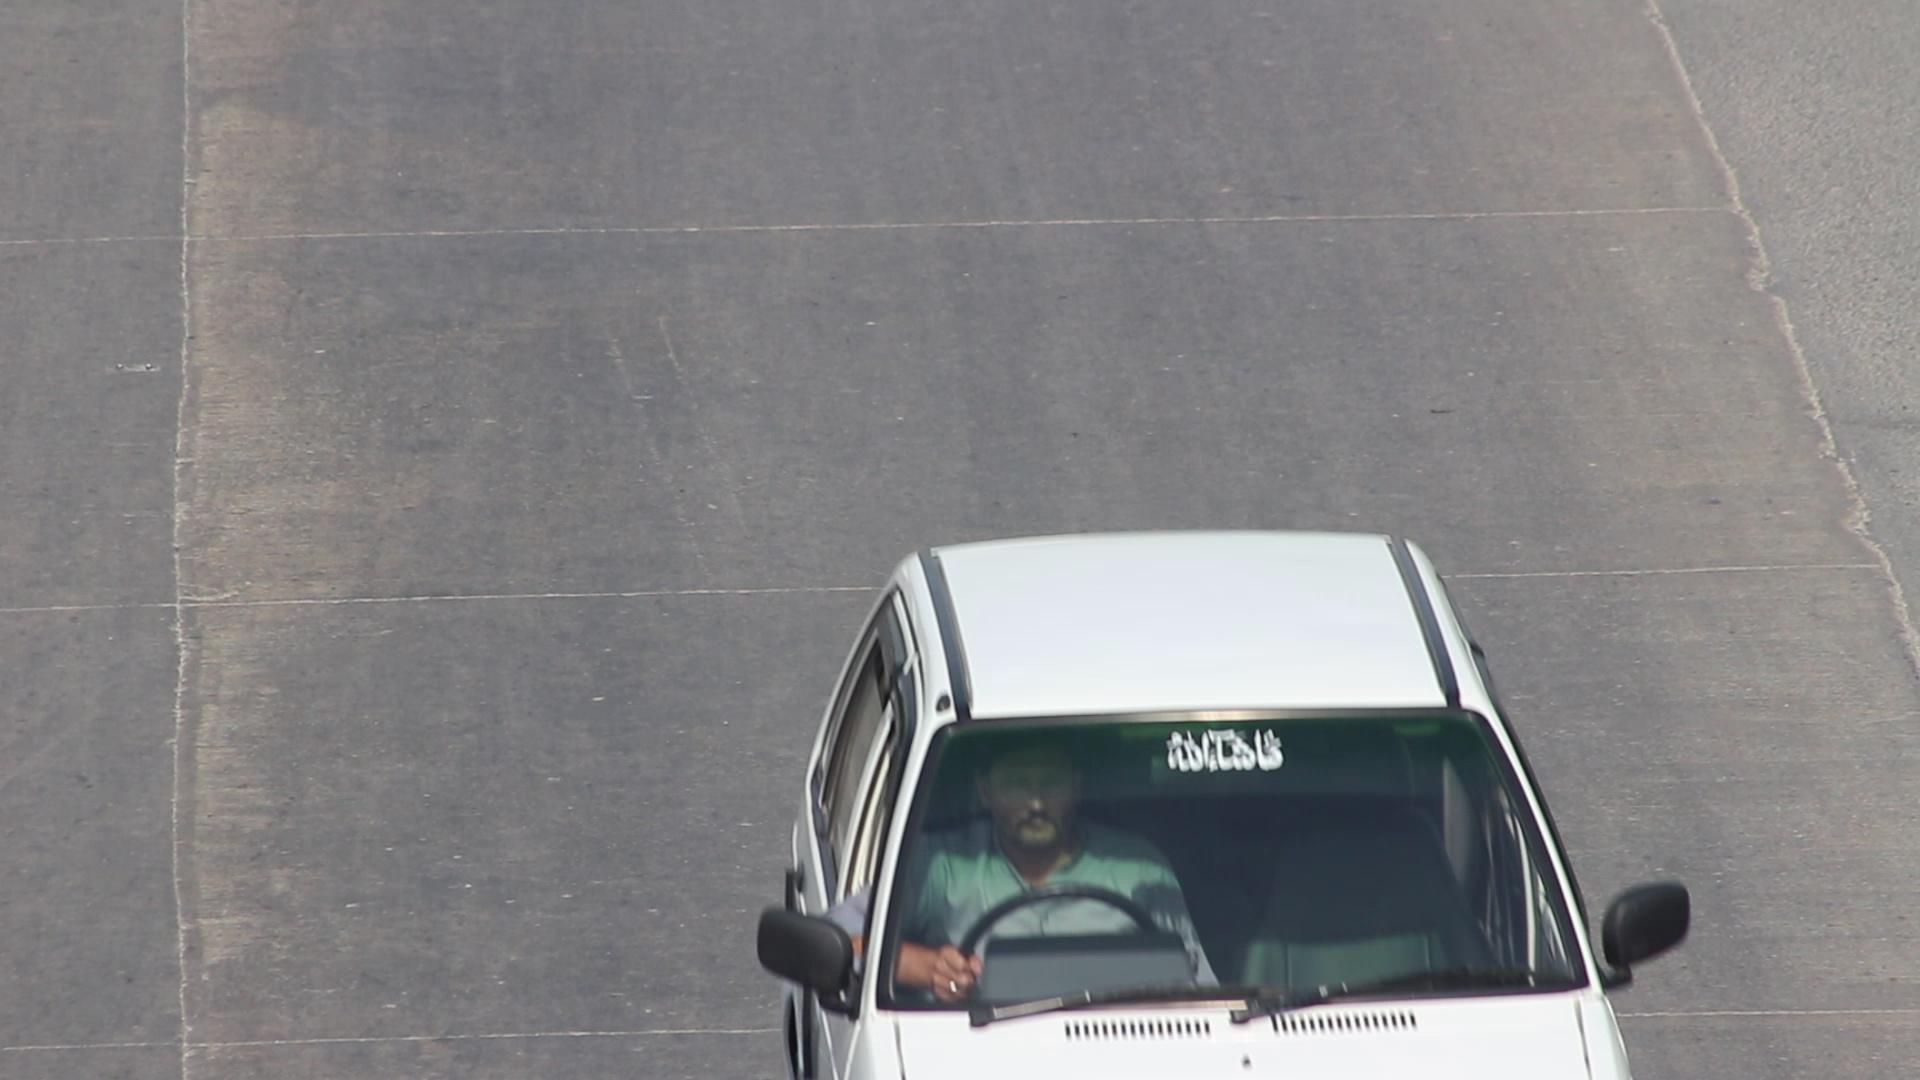windshield: (870, 707, 1590, 1027)
